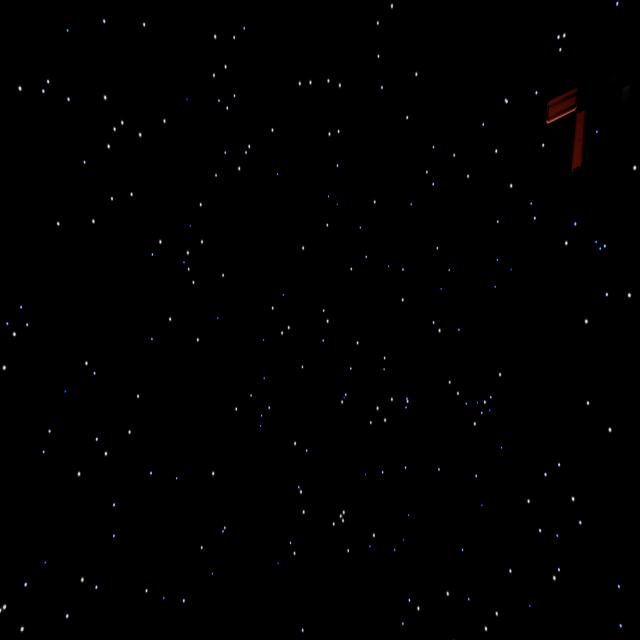satellite: (542, 57, 636, 176)
